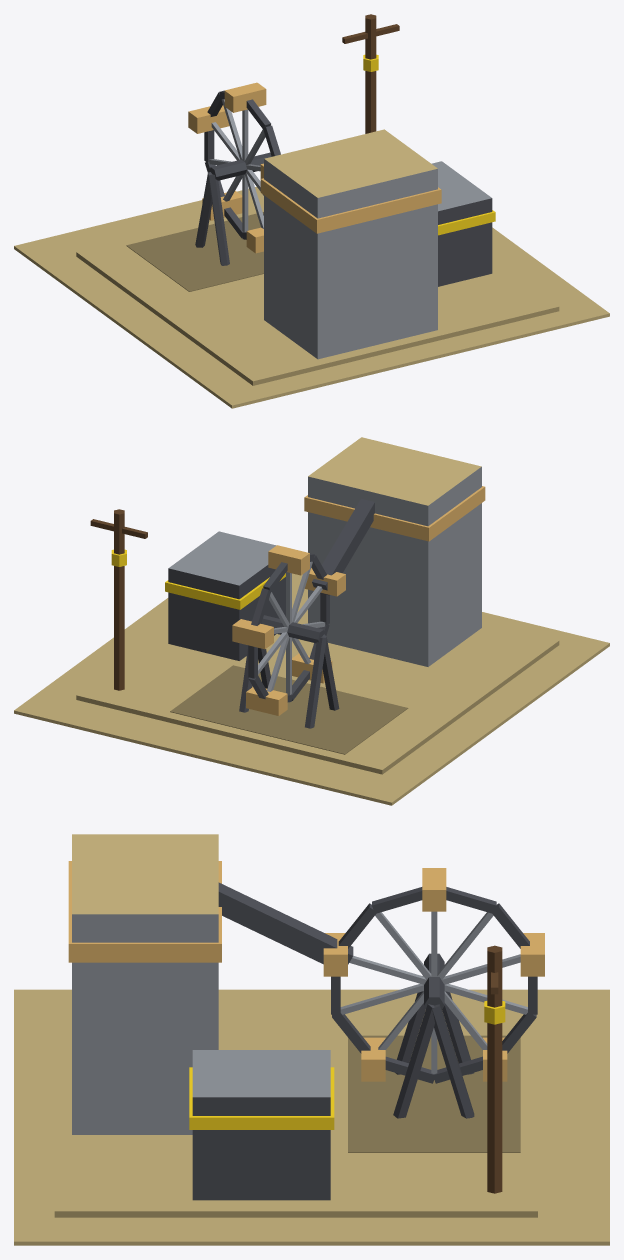
The model's file is sand_collector_3.glb.
3 views of the same model, one above another, from view 1: azimuth 30°, elevation 25°; view 2: azimuth 150°, elevation 25°; view 3: azimuth 270°, elevation 25° (orthographic). The views are drawn at different scales.
Visible parts, largest first — view 1: sand_collector_3; view 2: sand_collector_3; view 3: sand_collector_3.
Boxes of the visible parts, x1,y1,x2,y2 form: sand_collector_3: [14, 14, 609, 408]; sand_collector_3: [14, 437, 609, 805]; sand_collector_3: [14, 834, 609, 1245].
Size of the model in its own units: 3.8 by 1.79 by 3.8.
